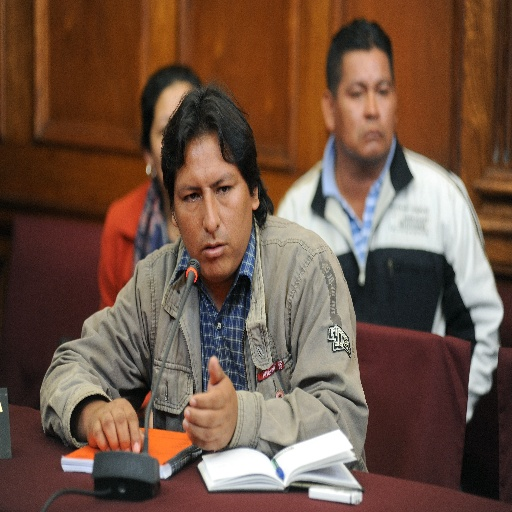hand: (184, 375, 239, 453), (84, 396, 147, 457)
